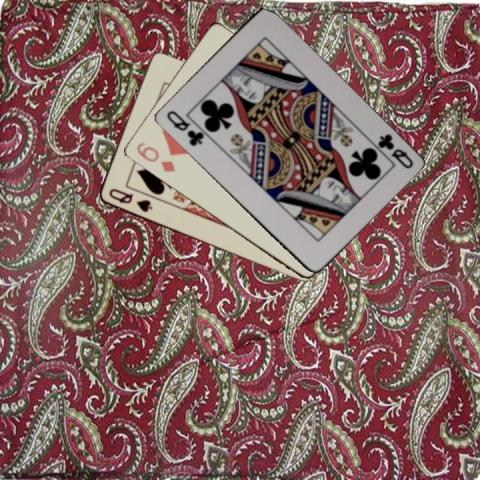6d: (132, 139, 176, 174)
Qc: (162, 108, 204, 148), (375, 131, 414, 170)
Qs: (106, 185, 154, 214)
